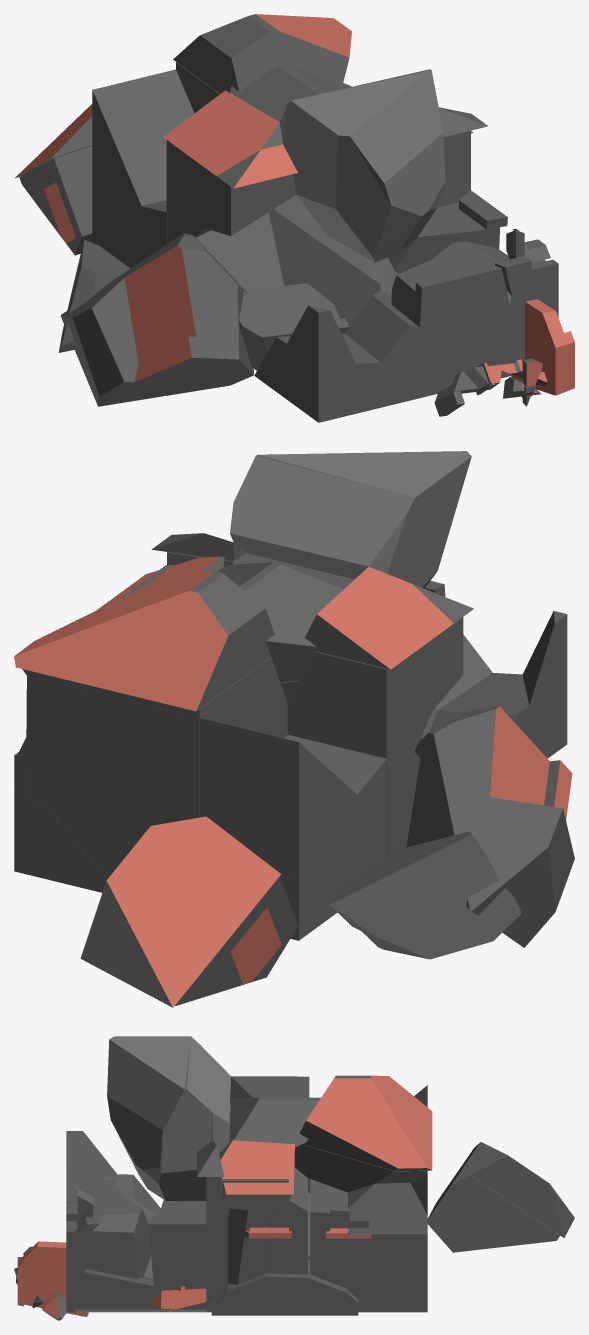
Rendered from house_small_destroyed.fbx.
3 renders of one model, top to bottom at view 1: azimuth 30°, elevation 25°; view 2: azimuth 150°, elevation 25°; view 3: azimuth 270°, elevation 25°, orthographic. The views are drawn at different scales.
Parts seen in each view (by area): view 1: Cube_cell.040, Cube_cell.049; view 2: Cube_cell.040; view 3: Cube_cell.040, Cube_cell.049, Cube_cell.044.
Part boxes in pixels (box(x1,y1,x2,y2)): Cube_cell.040: box(14, 14, 558, 422); Cube_cell.049: box(511, 299, 574, 395); Cube_cell.040: box(14, 451, 574, 1007); Cube_cell.040: box(14, 1036, 574, 1320); Cube_cell.049: box(17, 1241, 88, 1316); Cube_cell.044: box(149, 1286, 206, 1309).
Bounding box in the file's own units: 1015 × 748 × 1545.
